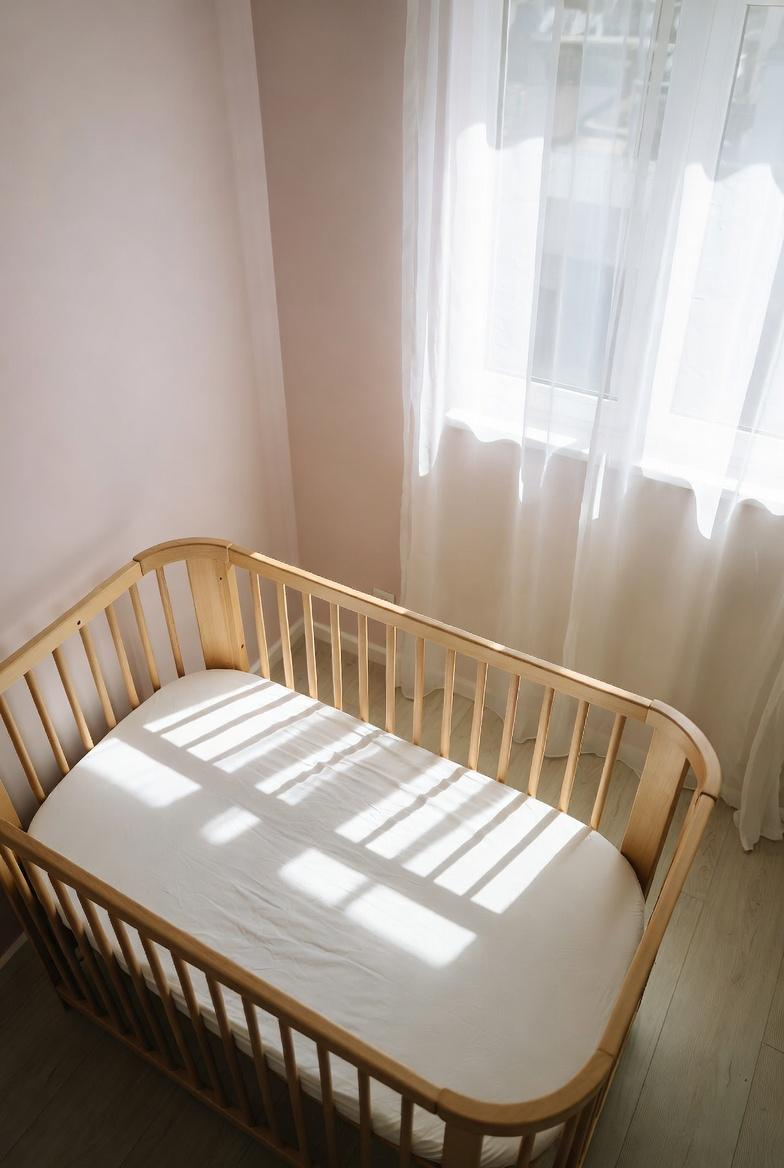crib: (0, 536, 721, 1167)
